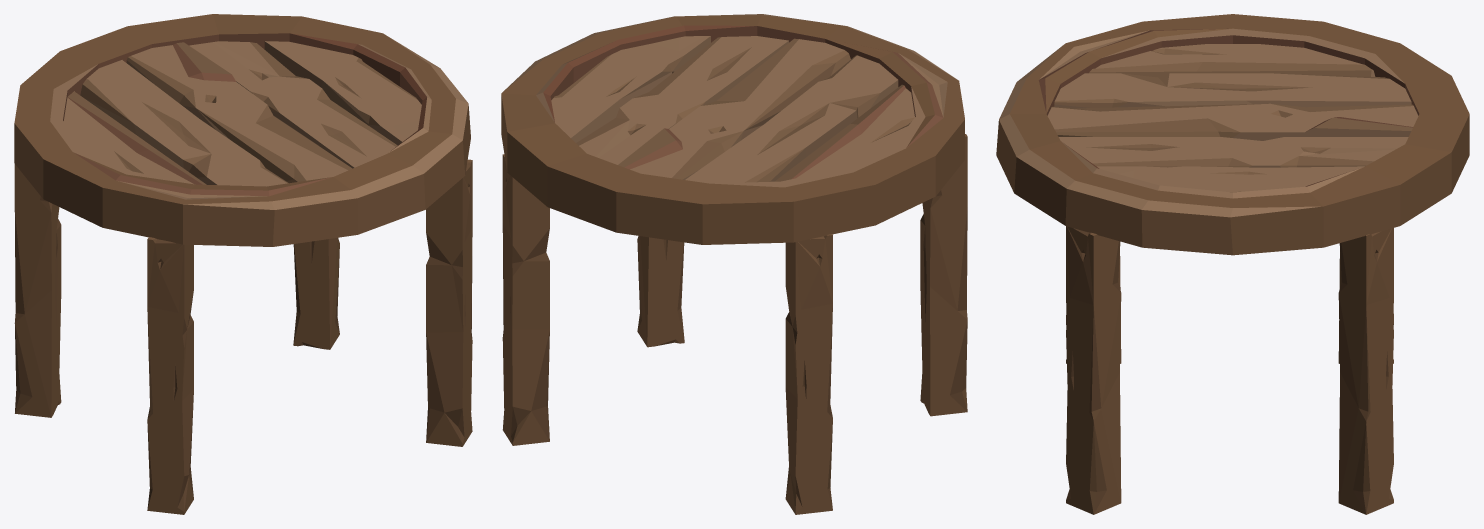
Rendered from mesh_table.fbx.
3 renders of one model, left to right at view 1: azimuth 30°, elevation 25°; view 2: azimuth 150°, elevation 25°; view 3: azimuth 270°, elevation 25°, orthographic. The views are drawn at different scales.
Visible parts, largest first — view 1: mesh_table; view 2: mesh_table; view 3: mesh_table.
Boxes of the visible parts, x1,y1,x2,y2 form: mesh_table: (14, 14, 472, 514); mesh_table: (501, 14, 967, 514); mesh_table: (996, 14, 1469, 514).
Bounding box in the file's own units: 0.9194 × 0.6918 × 0.9194.
